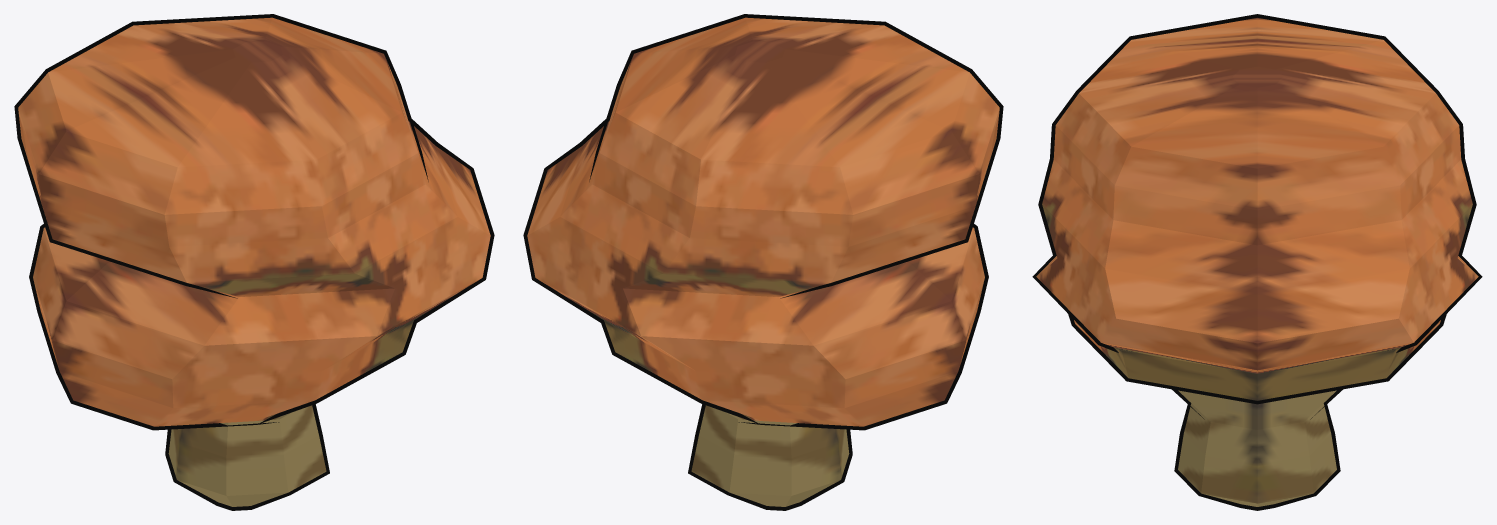
Rendered from Plant_Plant_TreeGauranlen_Things_Plant_GauranlenTree_GauranlenTreeA.glb.
3 views of the same model, side by side, from view 1: azimuth 30°, elevation 25°; view 2: azimuth 150°, elevation 25°; view 3: azimuth 270°, elevation 25° (orthographic). The views are drawn at different scales.
Parts seen in each view (by area): view 1: Body, Outline; view 2: Body, Outline; view 3: Body, Outline.
Part boxes in pixels (x1=…): Body: x1=18, y1=17, x2=490, y2=506; Outline: x1=14, y1=14, x2=494, y2=510; Body: x1=527, y1=17, x2=999, y2=506; Outline: x1=523, y1=14, x2=1003, y2=510; Body: x1=1036, y1=18, x2=1478, y2=506; Outline: x1=1032, y1=14, x2=1482, y2=510.
Bounding box in the file's own units: 0.9917 × 0.9688 × 0.9062.
Materials: 2 (1 with a texture image).
